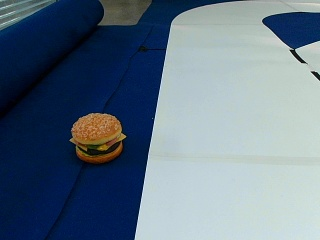burger: (70, 111, 124, 162)
